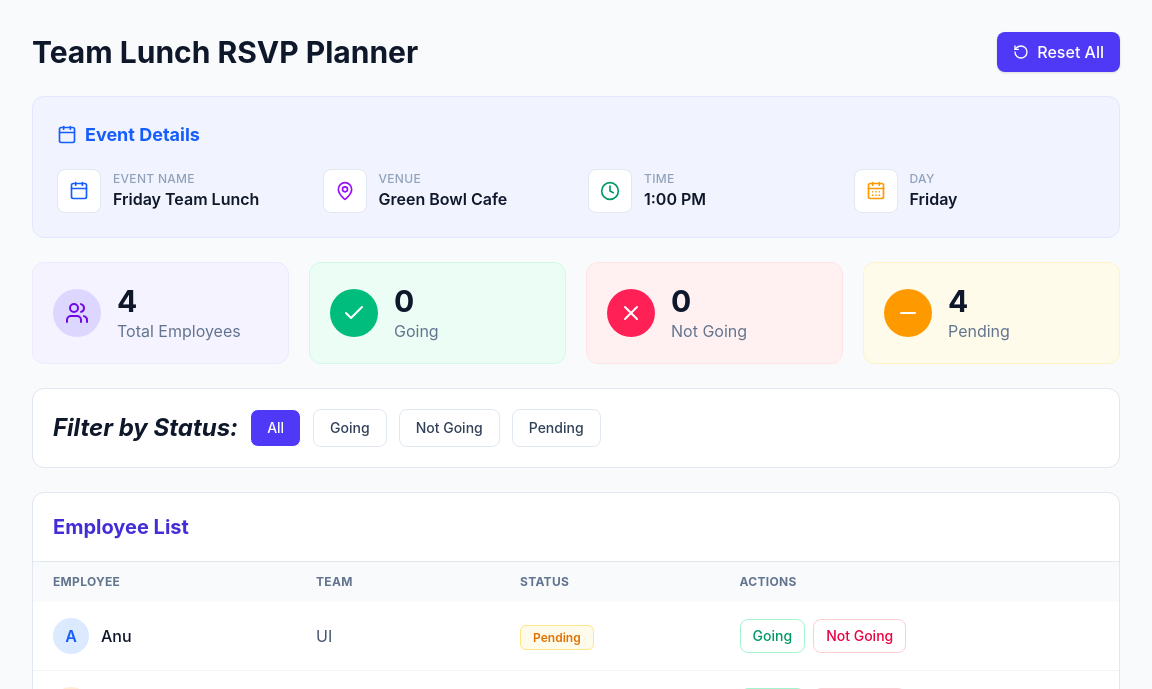
Test: App › shows the empty state when a filter matches no employees
This screenshot has width=1152, height=689.
What coordinates should you click on to do the following:
click the button "Going" in the row of "Filter by Status:"
I would click on:
 (350, 428)
Its box is [313, 409, 387, 447].
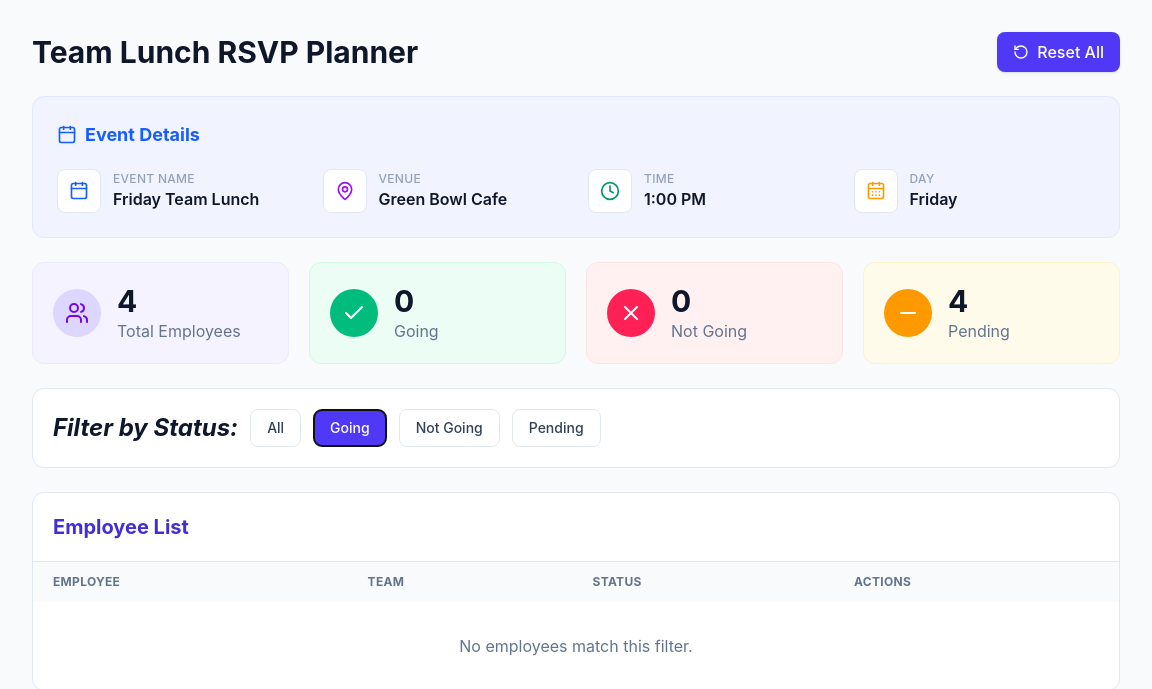
Expected: the text "No employees match this filter." is shown, [459, 636, 693, 656]
